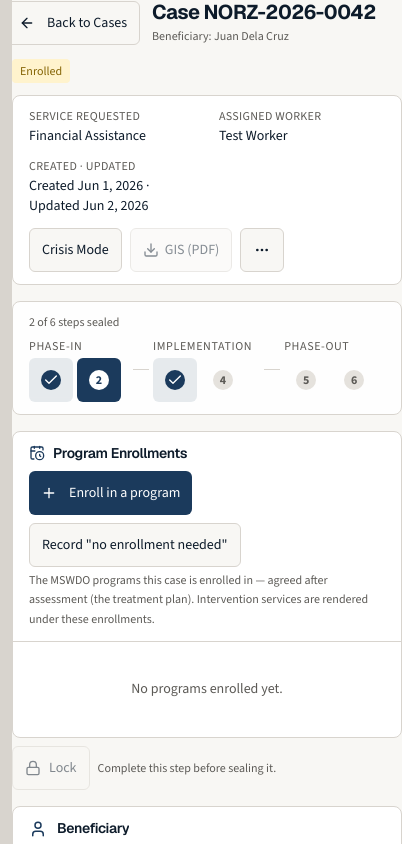
Test case: CaseViewPage — a sealed step › says on the strip that unlocking is how to change the step
Click the button named "Assess & Interview": {"x": 51, "y": 380} [29,358,73,402]
(page scrolled)
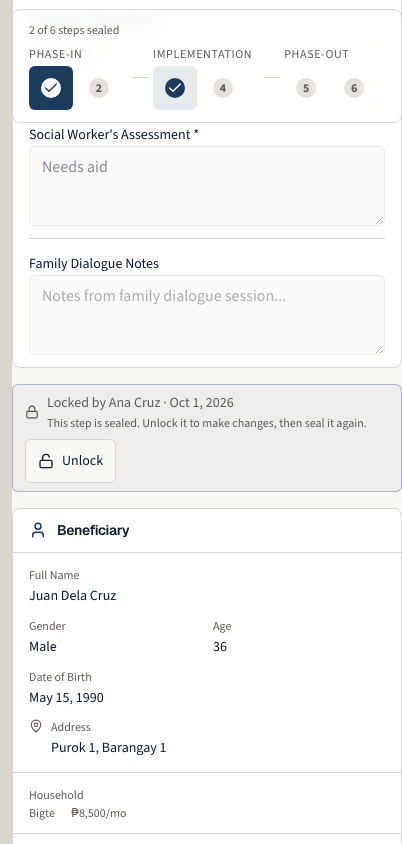
Check: the text "This step is sealed. Unlock it to make changes, then seal it again." is shown, box [47,415,367,431]
